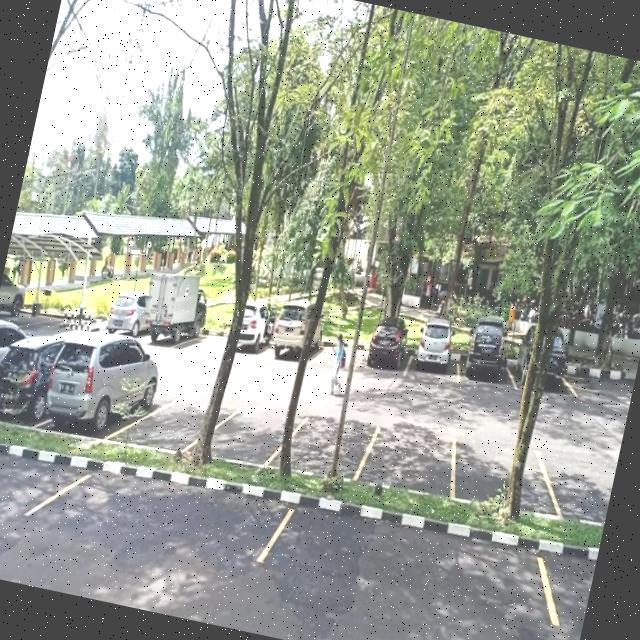empty: (269, 492, 552, 632), (51, 451, 286, 574), (448, 433, 552, 515), (360, 421, 458, 502), (282, 408, 376, 488), (208, 396, 290, 475), (133, 378, 210, 459), (314, 326, 366, 376)
occupied: (38, 346, 158, 449), (0, 336, 57, 431), (456, 325, 520, 392), (407, 321, 468, 384), (264, 301, 324, 365), (358, 318, 416, 378)
